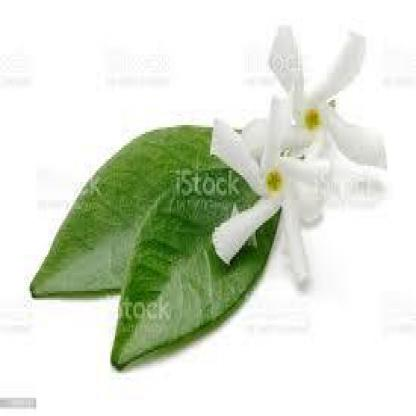Melati: (196, 92, 334, 301), (249, 8, 397, 199)
